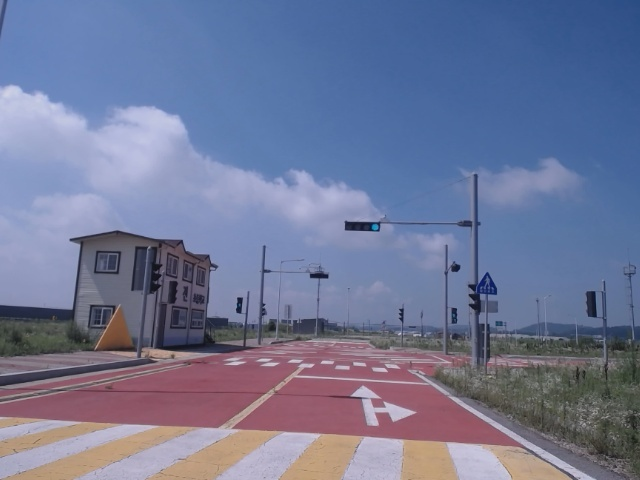straight_green_4: (345, 223, 380, 231)
